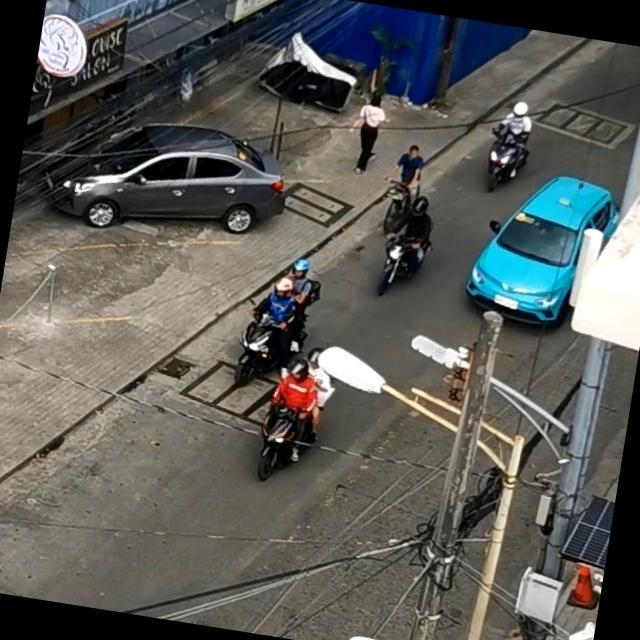Car: (42, 104, 282, 250), (461, 160, 614, 331)
